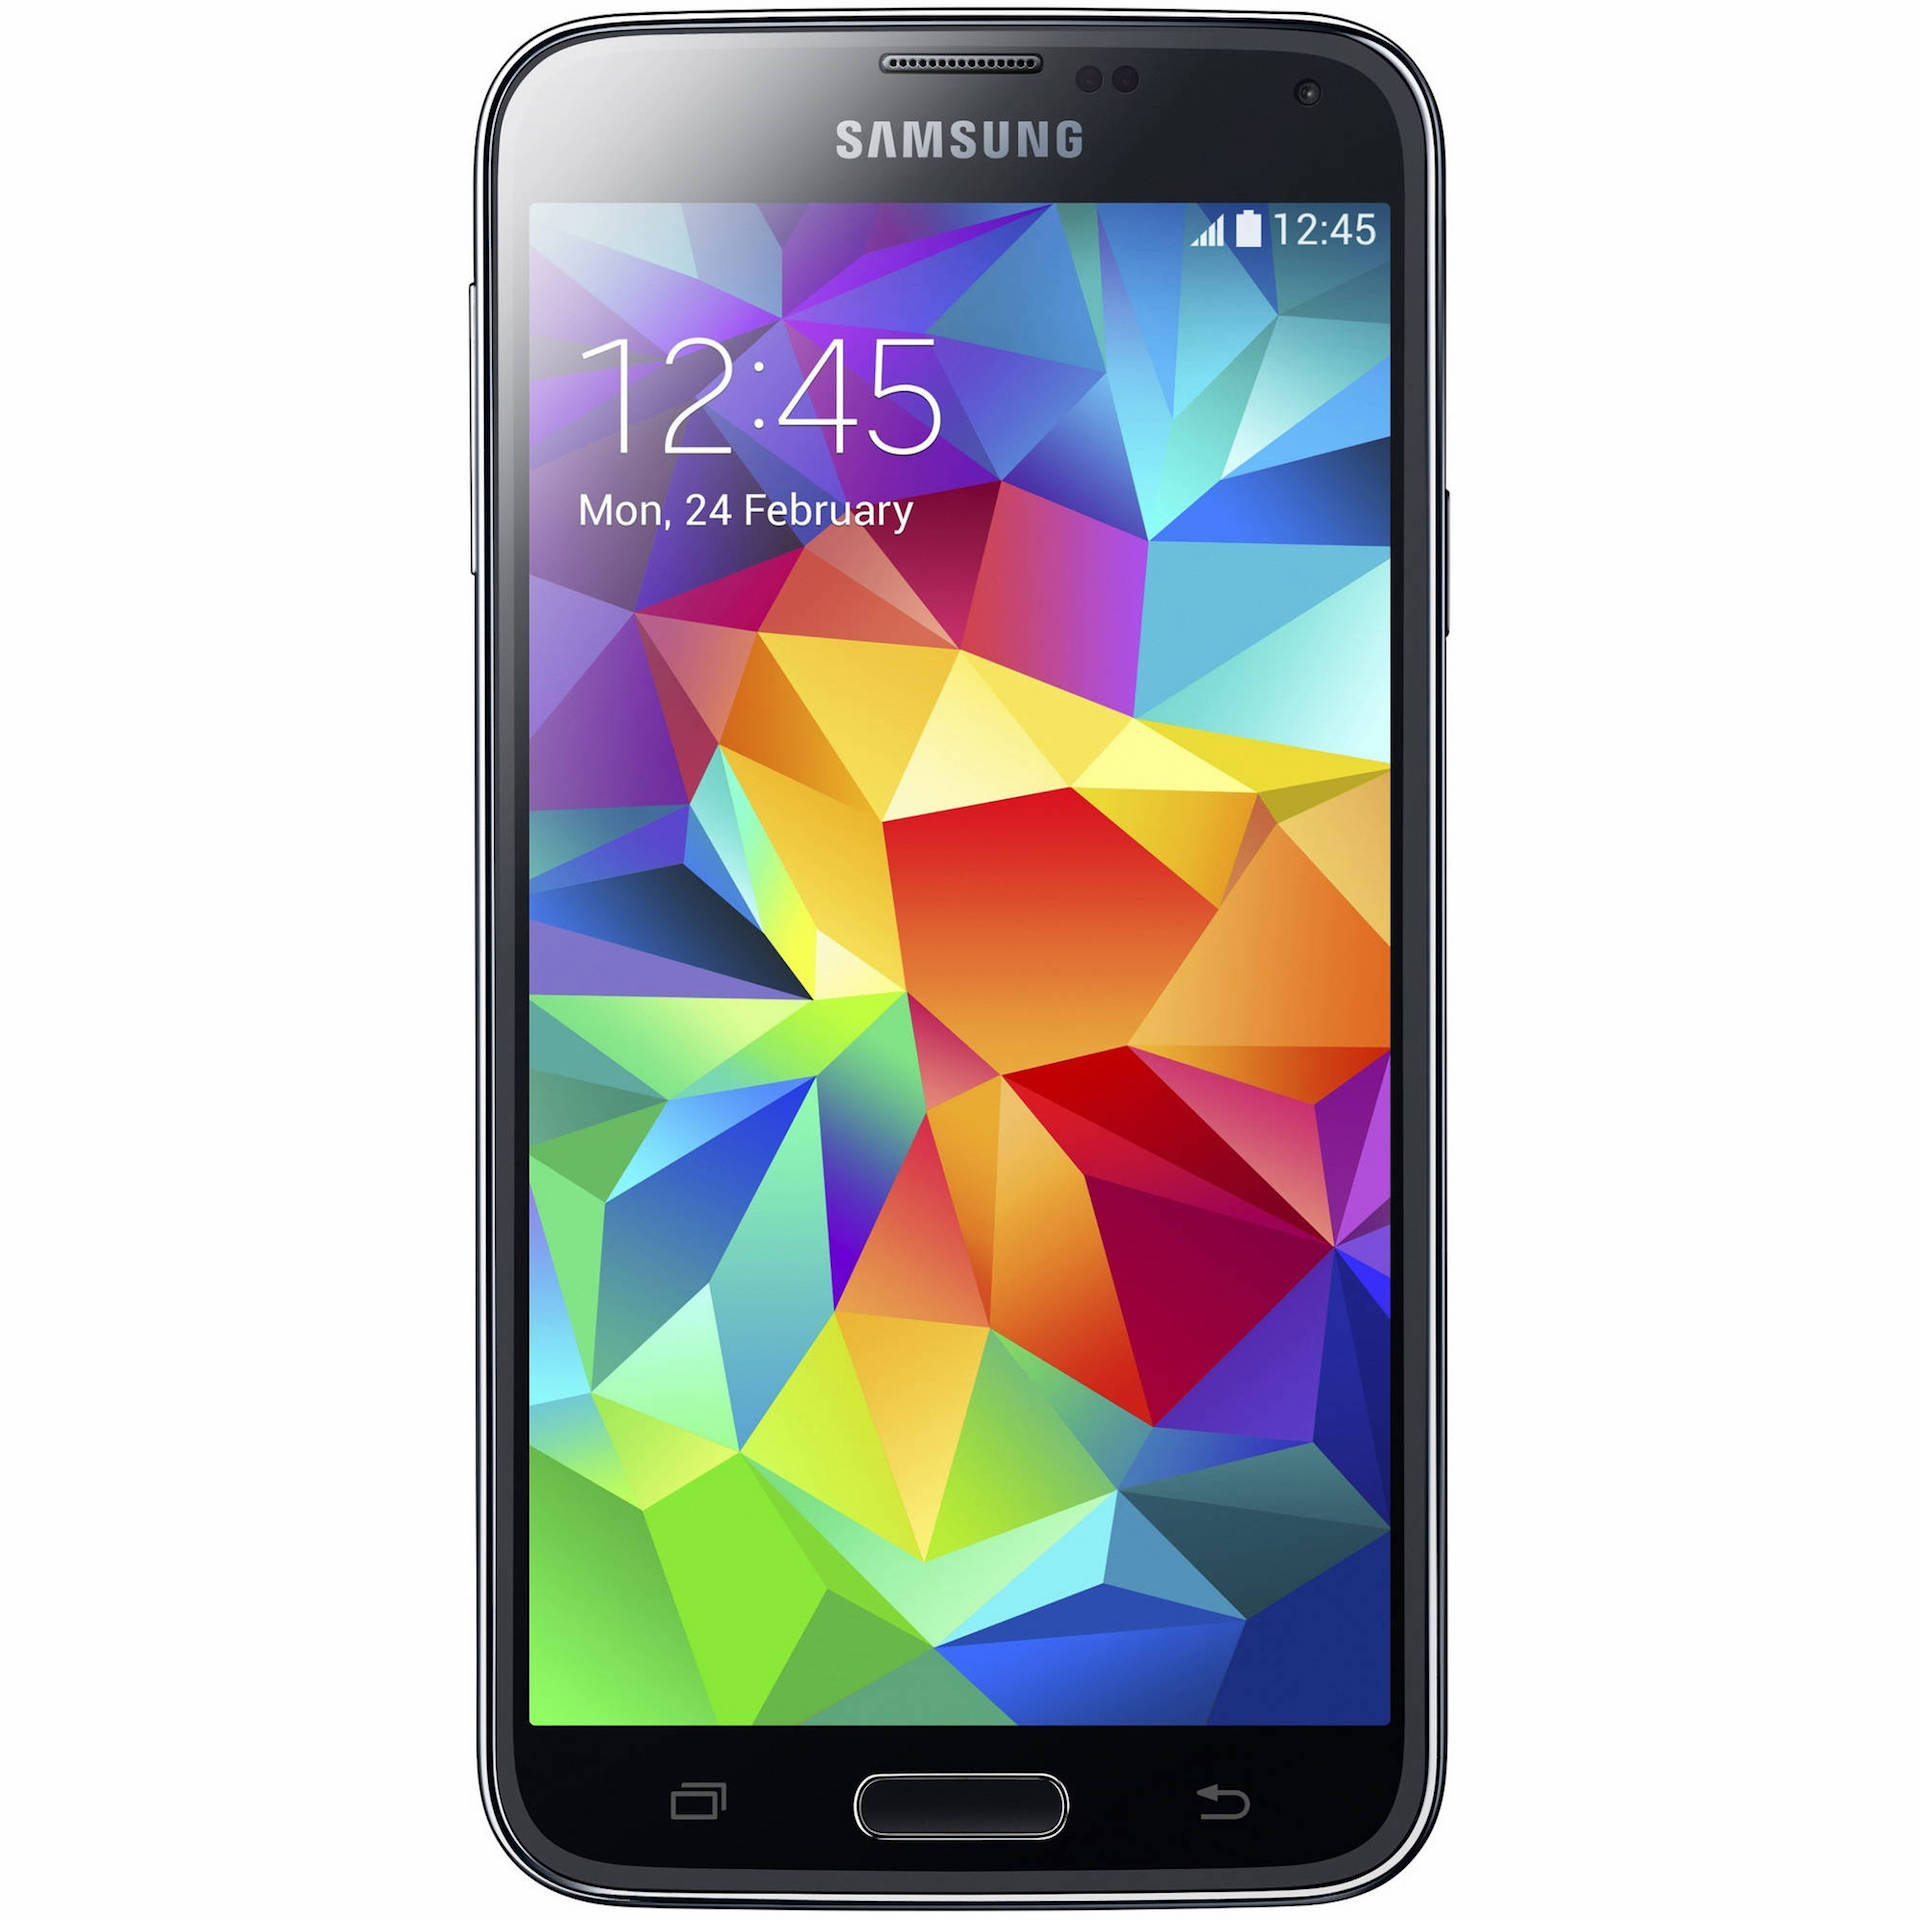smartphone: (462, 12, 1456, 1915)
